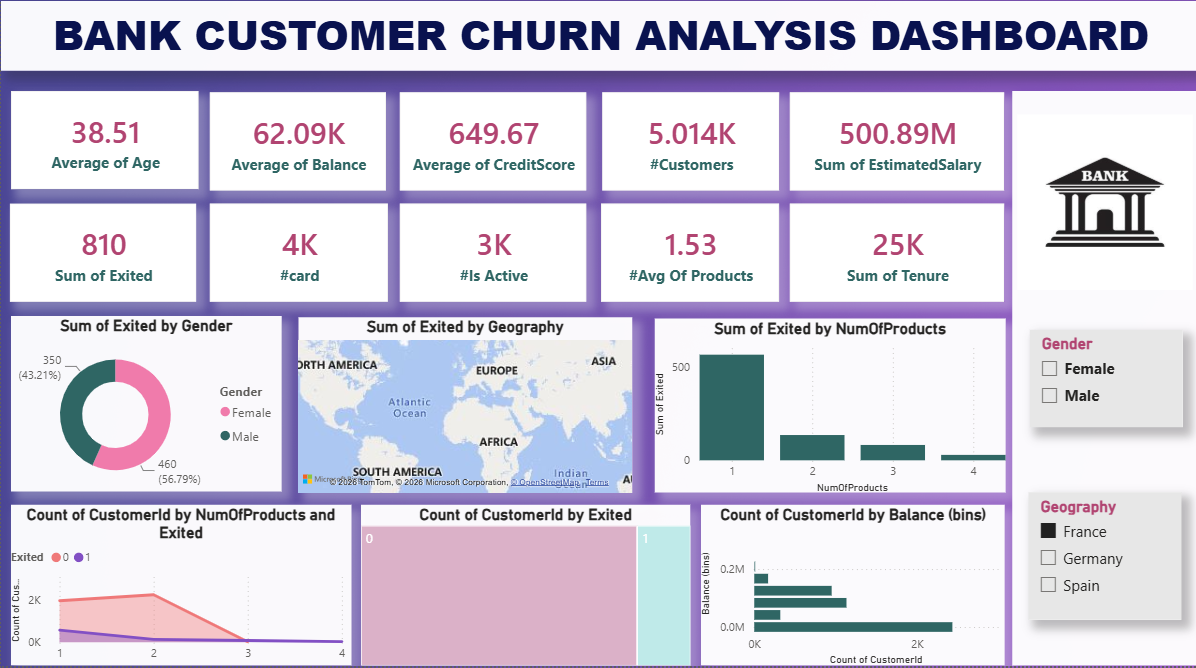

The page's visual inventory and layout, read from the dashboard file:
{"tool":"powerbi","page":{"name":"Page 1","canvas":[1280,720],"ordinal":0},"visuals":[{"type":"textbox","box":[0,11,1280.3,74.6],"z":0},{"type":"cardVisual","fields":{"Data":["Avg(Churn_Modelling.Age)"]},"box":[10,107.1,200,105.7],"z":1000},{"type":"cardVisual","fields":{"Data":["Avg(Churn_Modelling.Balance)"]},"box":[222.6,107.6,188.3,105.2],"z":2000},{"type":"cardVisual","fields":{"Data":["Avg(Churn_Modelling.CreditScore)"]},"box":[425.5,107.6,199.3,105.2],"z":3000},{"type":"cardVisual","fields":{"Data":["CountNonNull(Churn_Modelling.CustomerId)"]},"box":[640.8,107.6,189.5,105.2],"z":4000},{"type":"cardVisual","fields":{"Data":["Sum(Churn_Modelling.EstimatedSalary)"]},"box":[841.3,107.6,229.9,105.2],"z":5000},{"type":"cardVisual","fields":{"Data":["Sum(Churn_Modelling.Exited)"]},"box":[9.8,226.2,199.3,105.2],"z":6000},{"type":"cardVisual","fields":{"Data":["Sum(Churn_Modelling.HasCrCard)"]},"box":[222.6,226.2,190.8,105.2],"z":7000},{"type":"cardVisual","fields":{"Data":["Sum(Churn_Modelling.IsActiveMember)"]},"box":[425.5,226.2,199.3,105.2],"z":8000},{"type":"cardVisual","fields":{"Data":["Avg(Churn_Modelling.NumOfProducts)"]},"box":[639.5,226.2,190.8,105.2],"z":9000},{"type":"cardVisual","fields":{"Data":["Sum(Churn_Modelling.Tenure)"]},"box":[841.3,226.2,229.9,105.2],"z":10000},{"type":"textbox","box":[1078.6,107.1,197.1,612.9],"z":11000},{"type":"slicer","fields":{"Values":["Churn_Modelling.Gender"]},"box":[1097.1,361.4,162.9,104.3],"z":12000},{"type":"slicer","fields":{"Values":["Churn_Modelling.Geography"]},"box":[1095.7,534.3,162.9,135.7],"z":13000},{"type":"donutChart","fields":{"Y":["Sum(Churn_Modelling.Exited)"],"Category":["Churn_Modelling.Gender"]},"box":[10,347.1,288.6,187.1],"z":14000},{"type":"map","fields":{"Series":["Churn_Modelling.Geography"]},"box":[317.9,348.5,355.8,187.1],"z":15000},{"type":"columnChart","fields":{"Category":["Churn_Modelling.NumOfProducts"],"Y":["Sum(Churn_Modelling.Exited)"]},"box":[697,349.7,374.2,185.9],"z":16000},{"type":"areaChart","fields":{"Category":["Churn_Modelling.NumOfProducts"],"Series":["Churn_Modelling.Exited"],"Y":["CountNonNull(Churn_Modelling.CustomerId)"]},"box":[10,548.6,362.9,171.4],"z":17000},{"type":"treemap","fields":{"Details":["Churn_Modelling.Exited"],"Values":["CountNonNull(Churn_Modelling.CustomerId)"]},"box":[384.3,548.6,351.4,171.4],"z":18000},{"type":"clusteredBarChart","fields":{"Category":["Churn_Modelling.Balance (bins)"],"Y":["CountNonNull(Churn_Modelling.CustomerId)"]},"box":[747.1,548.6,324.3,171.4],"z":19000},{"type":"image","box":[1084.3,121.4,187.1,208.6],"z":20000}]}

Visuals, with their boxes in screenshot pixels (x1, y1, x2, y2), scaled from the page's 1280x720 canvas onto the 1196x668 screenshot:
textbox: left=0, top=10, right=1195, bottom=79
cardVisual - Avg(Churn_Modelling.Age): left=9, top=99, right=196, bottom=197
cardVisual - Avg(Churn_Modelling.Balance): left=208, top=100, right=384, bottom=197
cardVisual - Avg(Churn_Modelling.CreditScore): left=398, top=100, right=584, bottom=197
cardVisual - CountNonNull(Churn_Modelling.CustomerId): left=599, top=100, right=776, bottom=197
cardVisual - Sum(Churn_Modelling.EstimatedSalary): left=786, top=100, right=1001, bottom=197
cardVisual - Sum(Churn_Modelling.Exited): left=9, top=210, right=195, bottom=307
cardVisual - Sum(Churn_Modelling.HasCrCard): left=208, top=210, right=386, bottom=307
cardVisual - Sum(Churn_Modelling.IsActiveMember): left=398, top=210, right=584, bottom=307
cardVisual - Avg(Churn_Modelling.NumOfProducts): left=598, top=210, right=776, bottom=307
cardVisual - Sum(Churn_Modelling.Tenure): left=786, top=210, right=1001, bottom=307
textbox: left=1008, top=99, right=1192, bottom=667
slicer - Churn_Modelling.Gender: left=1025, top=335, right=1177, bottom=432
slicer - Churn_Modelling.Geography: left=1024, top=496, right=1176, bottom=622
donutChart - Sum(Churn_Modelling.Exited) x Churn_Modelling.Gender: left=9, top=322, right=279, bottom=496
map - Churn_Modelling.Geography: left=297, top=323, right=629, bottom=497
columnChart - Churn_Modelling.NumOfProducts x Sum(Churn_Modelling.Exited): left=651, top=324, right=1001, bottom=497
areaChart - Churn_Modelling.NumOfProducts x Churn_Modelling.Exited: left=9, top=509, right=348, bottom=667
treemap - Churn_Modelling.Exited x CountNonNull(Churn_Modelling.CustomerId): left=359, top=509, right=687, bottom=667
clusteredBarChart - Churn_Modelling.Balance (bins) x CountNonNull(Churn_Modelling.CustomerId): left=698, top=509, right=1001, bottom=667
image: left=1013, top=113, right=1188, bottom=306
